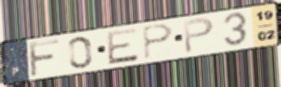0: (67, 35, 94, 70)
3: (220, 10, 250, 49)
E: (105, 26, 141, 66)
F: (27, 37, 62, 79)
P: (182, 16, 217, 56), (140, 23, 175, 61)
